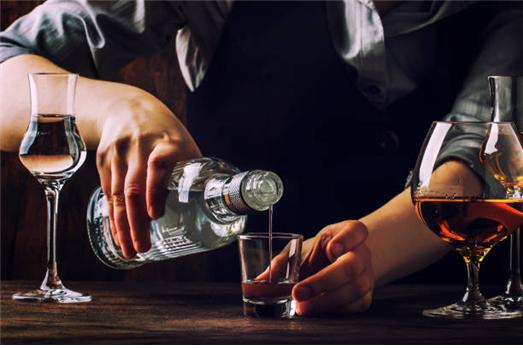alcohol: (410, 118, 523, 321), (86, 155, 282, 271), (11, 72, 91, 304), (482, 76, 523, 318), (237, 231, 301, 319)
